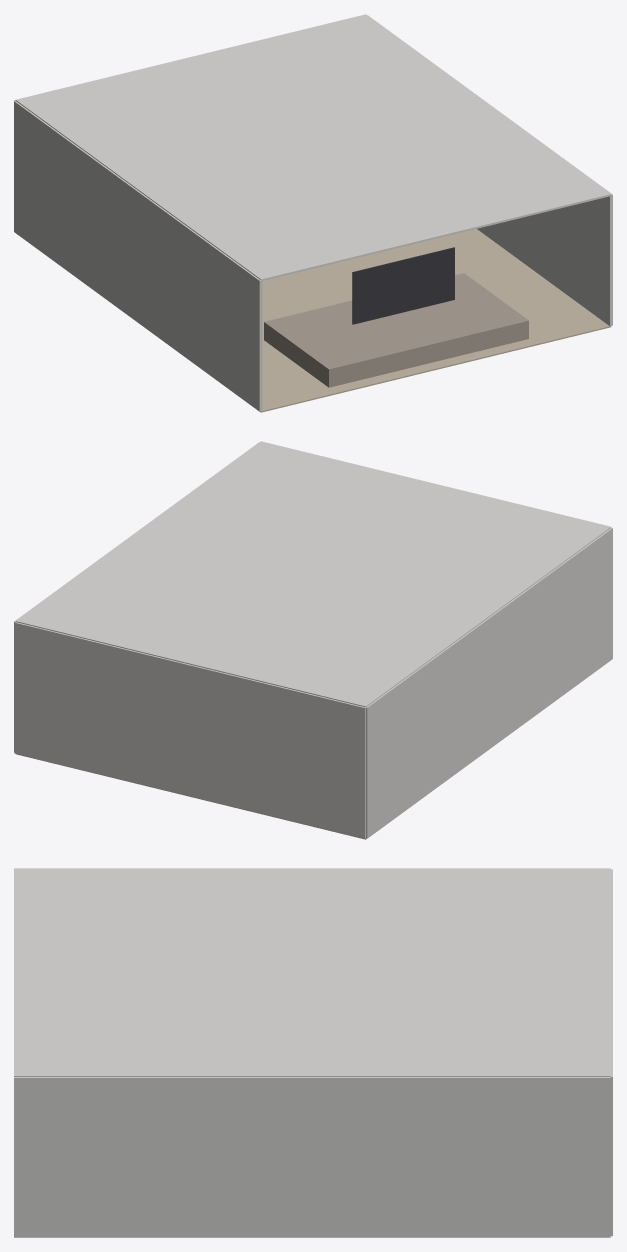
Rendered from skin-blue-auditorium-v1-decorated-world.glb.
3 views of the same model, one above another, from view 1: azimuth 30°, elevation 25°; view 2: azimuth 150°, elevation 25°; view 3: azimuth 270°, elevation 25° (orthographic). The views are drawn at different scales.
Visible parts, largest first — view 1: Ceiling, Wall_L, Floor, Stage, Wall_R, Screen_Bezel; view 2: Ceiling, Wall_Back, Wall_L; view 3: Ceiling, Wall_R, Wall_Back, Floor.
Boxes of the visible parts, box(x1,y1,x2,y2) form: Ceiling: box(15, 14, 611, 281); Wall_L: box(14, 100, 262, 411); Floor: box(260, 229, 611, 412); Stage: box(264, 273, 528, 387); Wall_R: box(367, 15, 612, 326); Screen_Bezel: box(352, 247, 454, 324); Ceiling: box(15, 441, 611, 707); Wall_Back: box(14, 622, 365, 838); Wall_L: box(366, 527, 612, 838); Ceiling: box(14, 868, 610, 1076); Wall_R: box(14, 1077, 610, 1236); Wall_Back: box(610, 869, 612, 1236); Floor: box(14, 1237, 610, 1237).
Size of the model in its own units: 28.25 by 10.18 by 34.12.
